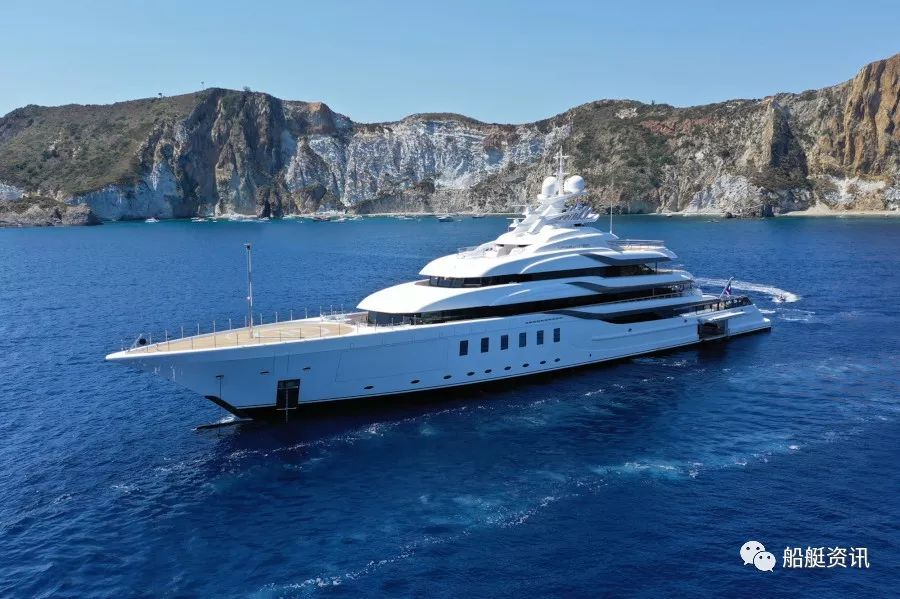yacht: (97, 160, 765, 427)
